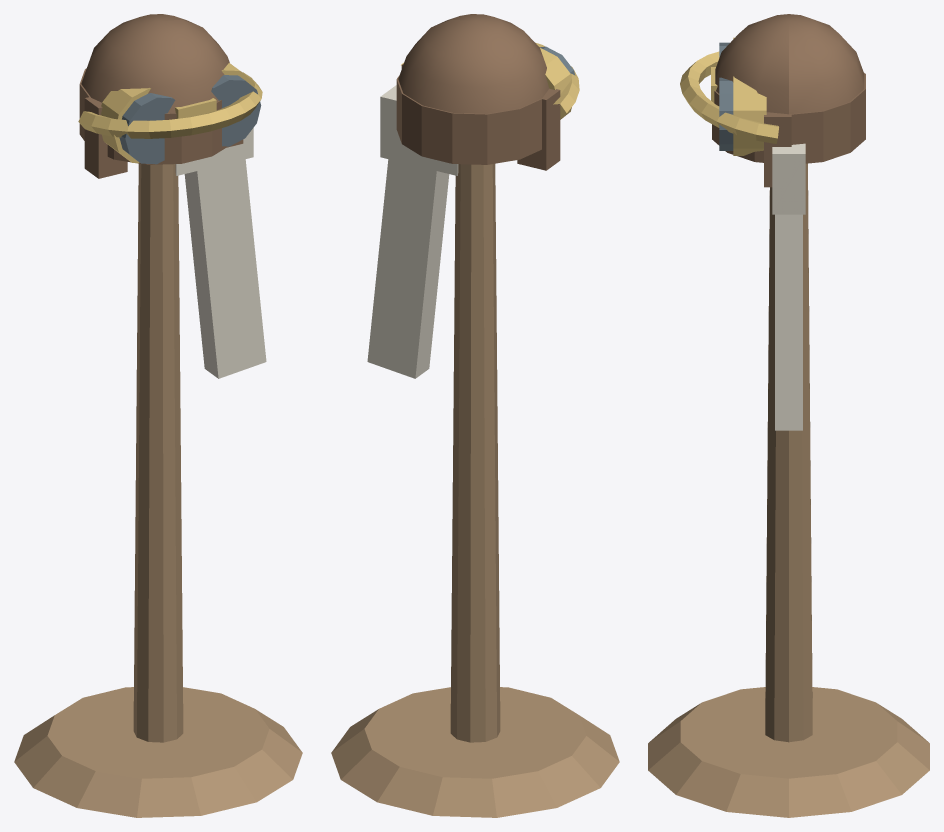
File: steampunk-airship-dock-and-workshop-flight-gear-stand-b2d883bc.glb
The picture shows the model from 3 angles, left to right: view 1: azimuth 30°, elevation 25°; view 2: azimuth 150°, elevation 25°; view 3: azimuth 270°, elevation 25°; orthographic projection.
Visible parts, largest first — view 1: flight-gear-stand; view 2: flight-gear-stand; view 3: flight-gear-stand.
Part boxes in pixels (box(x1,y1,x2,y2)): flight-gear-stand: box(14, 14, 302, 817); flight-gear-stand: box(331, 14, 619, 817); flight-gear-stand: box(648, 14, 929, 817).
Size of the model in its own units: 0.52 by 1.46 by 0.5069.
